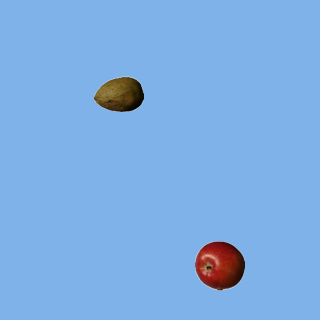Apple Braeburn: (194, 240, 244, 290)
Papaya: (93, 69, 143, 119)
